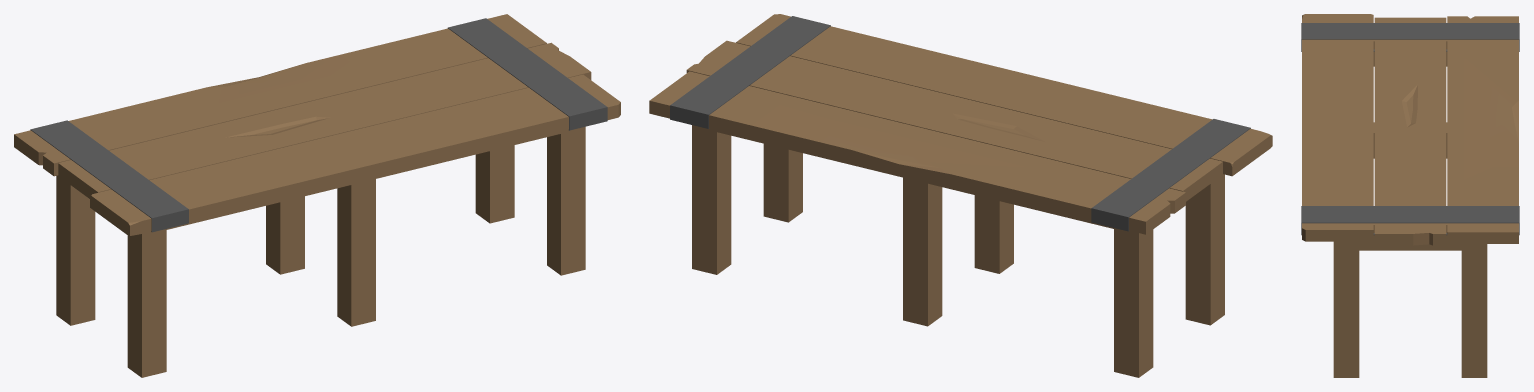
File: Stół długi.fbx
3 views of the same model, side by side, from view 1: azimuth 30°, elevation 25°; view 2: azimuth 150°, elevation 25°; view 3: azimuth 270°, elevation 25° (orthographic). The views are drawn at different scales.
Parts seen in each view (by area): view 1: Cube_3_Cube_1; view 2: Cube_3_Cube_1; view 3: Cube_3_Cube_1.
Part boxes in pixels (left/top/right/bottom): Cube_3_Cube_1: left=14, top=14, right=620, bottom=377; Cube_3_Cube_1: left=649, top=14, right=1272, bottom=377; Cube_3_Cube_1: left=1301, top=14, right=1519, bottom=377.
Size of the model in its own units: 204 by 67.75 by 85.35.
